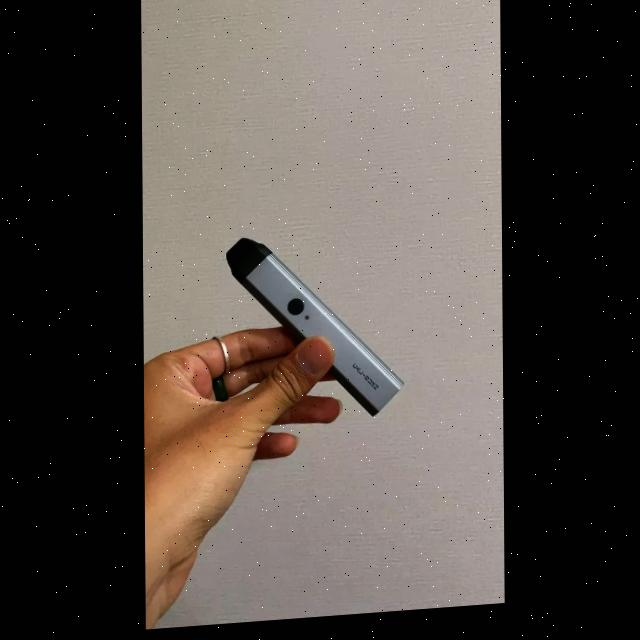vape: (223, 230, 401, 432)
